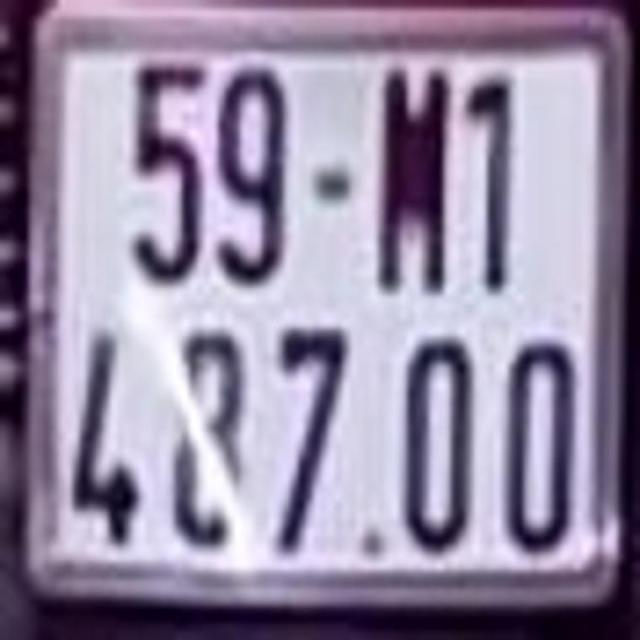0: (503, 333, 577, 550), (413, 340, 475, 554)
1: (471, 75, 517, 292)
4: (78, 354, 144, 544)
5: (133, 64, 204, 282)
7: (272, 314, 348, 548)
8: (175, 327, 238, 540)
9: (218, 74, 286, 285)
M: (385, 73, 449, 305)
